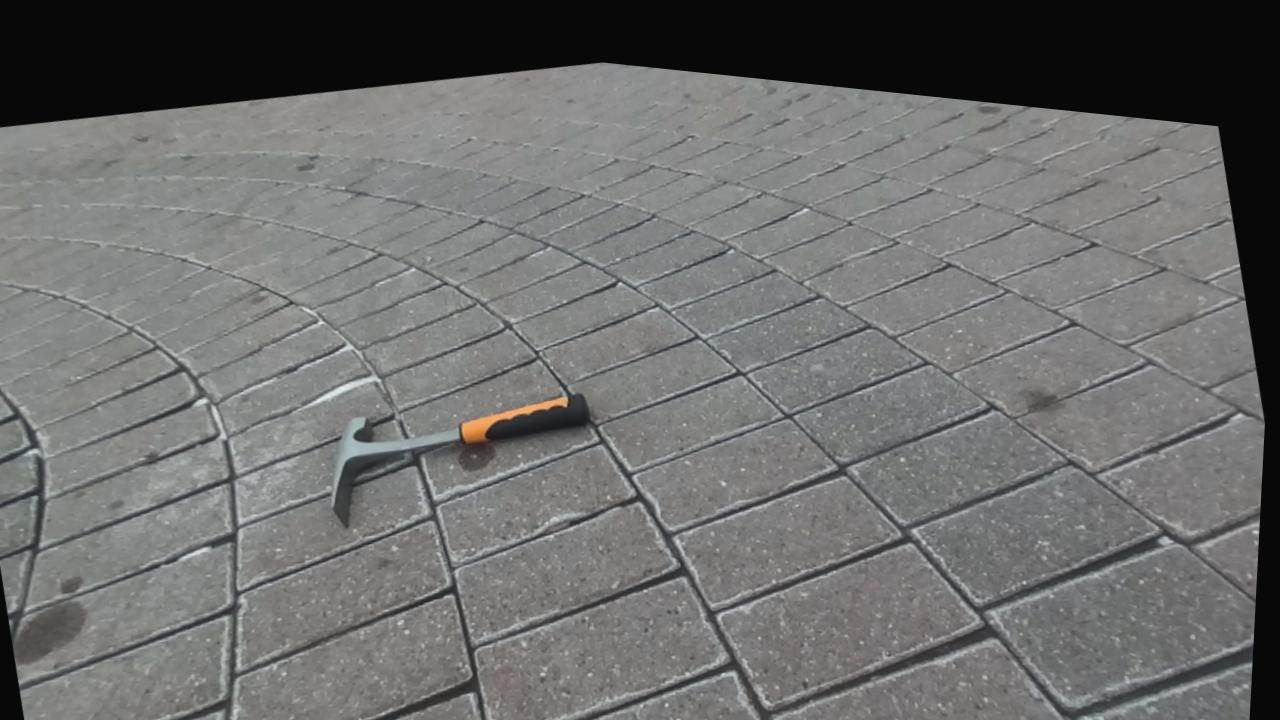pick: (330, 393, 588, 526)
